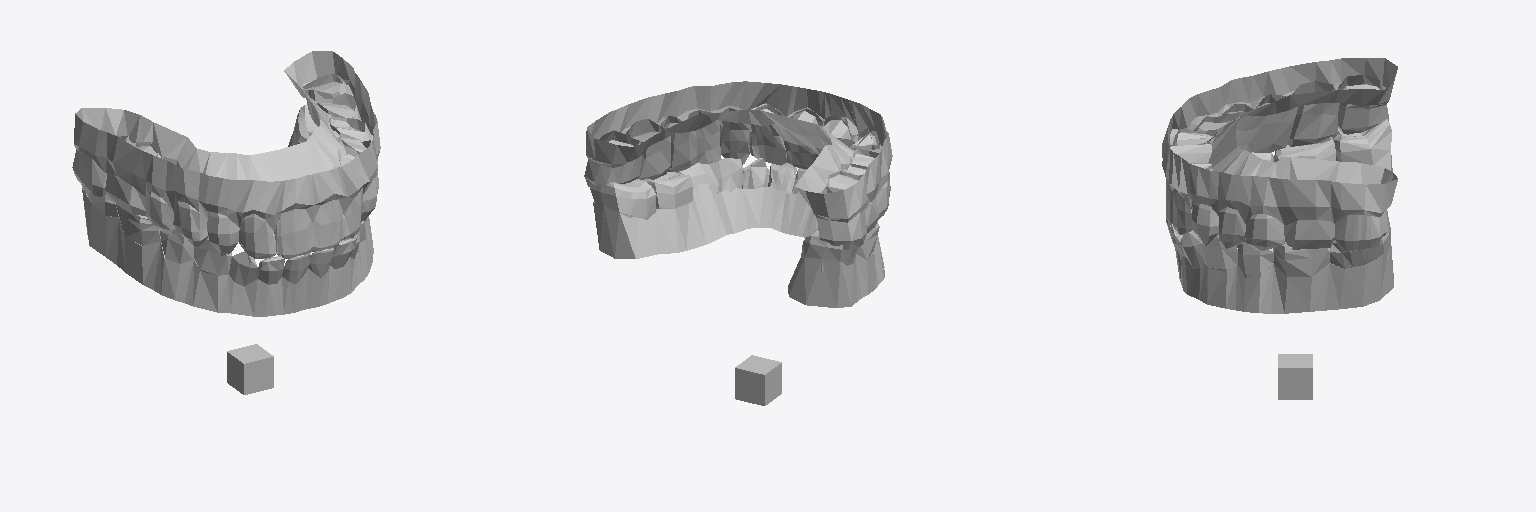
File: blender.obj
3 views of the same model, side by side, from view 1: azimuth 30°, elevation 25°; view 2: azimuth 150°, elevation 25°; view 3: azimuth 270°, elevation 25° (orthographic).
Visible parts, largest first — view 1: jaw.014, jaw.029, Cube, jaw, jaw.003, jaw.007, jaw.005, jaw.002, jaw.006, jaw.004, jaw.020, jaw.001 (+9 smaller); view 2: jaw.014, jaw.029, Cube, jaw.028, jaw.012, jaw.013, jaw.006, jaw.010, jaw.027, jaw.007, jaw.011, jaw.008 (+6 smaller); view 3: jaw.014, jaw.029, jaw.005, jaw.021, jaw.013, Cube, jaw.006, jaw.027, jaw.001, jaw.012, jaw.008, jaw.028 (+8 smaller).
Boxes of the visible parts, box(x1,y1,x2,y2) form: jaw.014: box(74, 51, 380, 231); jaw.029: box(82, 134, 373, 316); Cube: box(227, 344, 273, 394); jaw: box(274, 209, 312, 258); jaw.003: box(239, 214, 276, 258); jaw.007: box(312, 199, 342, 251); jaw.005: box(105, 142, 157, 216); jaw.002: box(173, 201, 207, 246); jaw.006: box(72, 136, 128, 197); jaw.004: box(207, 211, 239, 255); jaw.020: box(116, 204, 160, 245); jaw.001: box(146, 157, 179, 234); jaw.014: box(586, 81, 892, 222); jaw.029: box(593, 187, 884, 307); Cube: box(735, 355, 781, 405); jaw.028: box(590, 179, 656, 219); jaw.012: box(626, 119, 670, 179); jaw.013: box(584, 130, 641, 187); jaw.006: box(817, 186, 866, 249); jaw.010: box(749, 104, 786, 165); jaw.027: box(643, 172, 692, 208); jaw.007: box(772, 108, 822, 169); jaw.011: box(719, 107, 750, 164); jaw.008: box(661, 116, 697, 171); jaw.014: box(1162, 58, 1397, 225); jaw.029: box(1175, 150, 1393, 313); jaw.005: box(1288, 81, 1339, 146); jaw.021: box(1333, 118, 1391, 164); jaw.013: box(1335, 210, 1389, 250); Cube: box(1278, 354, 1312, 399); jaw.006: box(1338, 75, 1388, 134); jaw.027: box(1273, 242, 1329, 276); jaw.001: box(1253, 94, 1298, 152); jaw.012: box(1284, 180, 1334, 249); jaw.008: box(1245, 214, 1285, 250); jaw.028: box(1330, 222, 1390, 268).
Size of the model in its own units: 18.09 by 17.22 by 13.63.